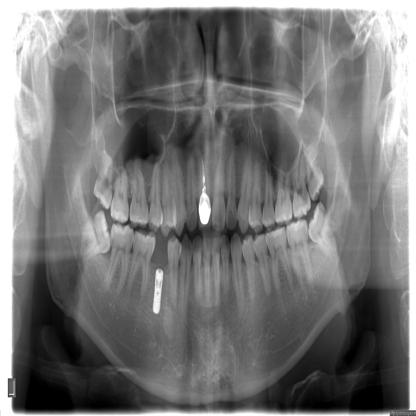ITI: (145, 262, 168, 330)
